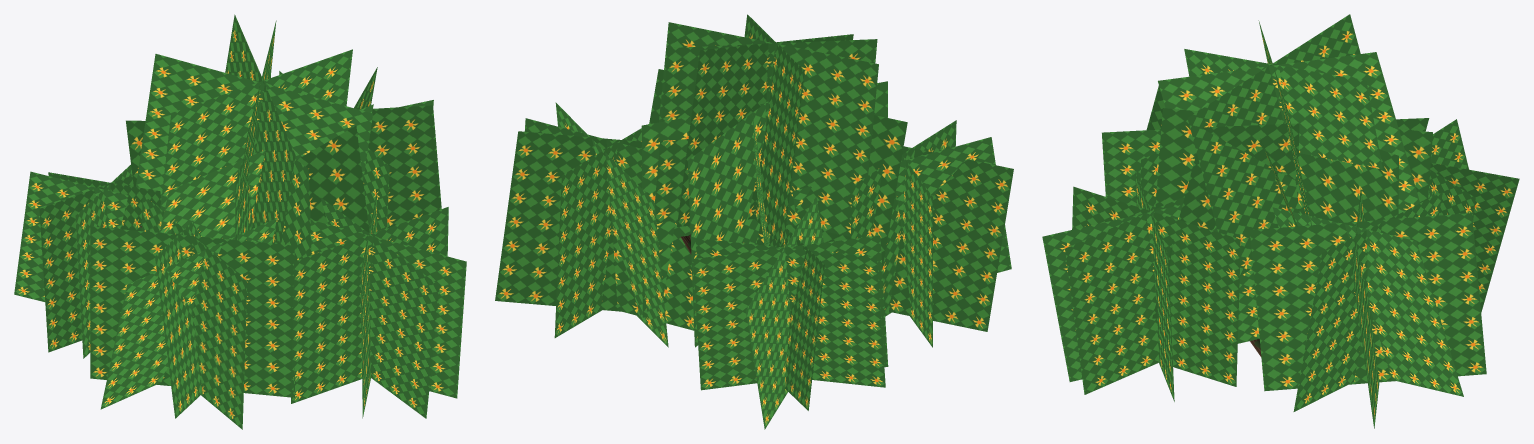
The model's file is flowering_shrub.glb.
3 views of the same model, side by side, from view 1: azimuth 30°, elevation 25°; view 2: azimuth 150°, elevation 25°; view 3: azimuth 270°, elevation 25° (orthographic). The views are drawn at different scales.
Parts seen in each view (by area): view 1: Node_FloweringShrub; view 2: Node_FloweringShrub; view 3: Node_FloweringShrub.
Boxes of the visible parts, box(x1,y1,x2,y2) form: Node_FloweringShrub: box(14, 14, 466, 429); Node_FloweringShrub: box(495, 14, 1013, 429); Node_FloweringShrub: box(1042, 14, 1519, 428).
Bounding box in the file's own units: 2.41 × 1.88 × 2.46.
Materials: 2 (2 with a texture image).
